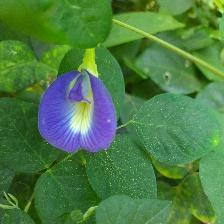shankupushpam: (37, 41, 120, 155)
